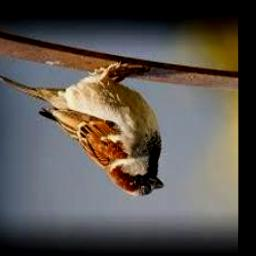Sparrow: (0, 62, 164, 196)
